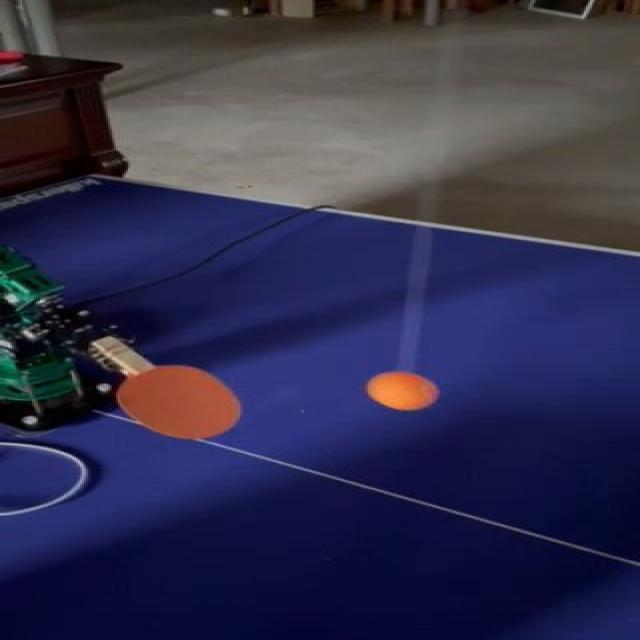ping-pong-ball: (364, 373, 438, 409)
